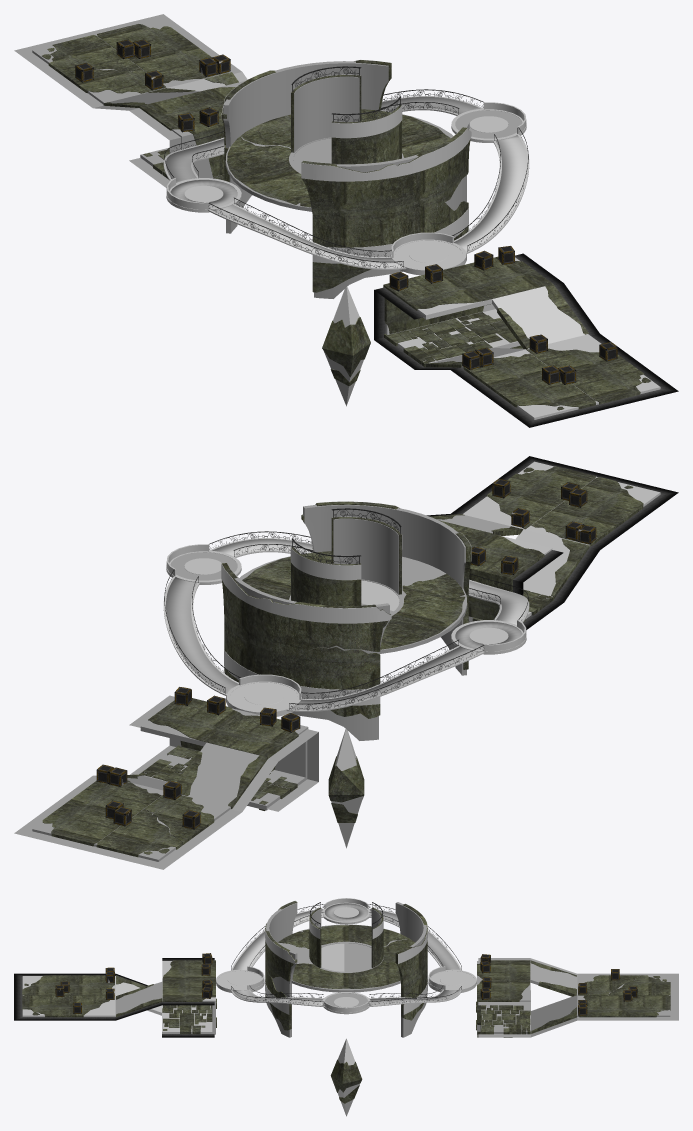
The model's file is SkyGarden.fbx.
The picture shows the model from 3 angles, top to bottom: view 1: azimuth 30°, elevation 25°; view 2: azimuth 150°, elevation 25°; view 3: azimuth 270°, elevation 25°; orthographic projection. The views are drawn at different scales.
Visible parts, largest first — view 1: Rock (×3), WallBody (×3), WallInside (×3), Inside (×3), Ground (×3), BorderGlow (×2), Edge (×5), WallEdge (×2), BaseGround, Box2 (×2), Fence (×2), FloatingRock (+4 smaller); view 2: Rock (×3), WallBody (×3), Inside (×3), WallInside (×3), BorderGlow (×2), Ground (×3), Edge (×5), WallEdge (×2), Box2 (×2), Fence (×2), Glass (×2), BaseGround (+4 smaller); view 3: Rock (×3), Inside (×3), WallBody (×4), BorderGlow (×2), Ground (×4), Edge (×6), WallInside (×2), BaseGround (×2), Box2 (×2), WallEdge (×2), Fence (×2), Box1 (×2) (+5 smaller).
Boxes of the visible parts, x1=… form: Rock (×3): x1=42, y1=24, x2=650, y2=410; WallBody (×3): x1=221, y1=60, x2=470, y2=292; WallInside (×3): x1=223, y1=61, x2=469, y2=298; Inside (×3): x1=32, y1=19, x2=660, y2=419; Ground (×3): x1=166, y1=96, x2=526, y2=268; BorderGlow (×2): x1=14, y1=14, x2=678, y2=427; Edge (×5): x1=163, y1=96, x2=529, y2=275; WallEdge (×2): x1=301, y1=105, x2=471, y2=263; BaseGround: x1=384, y1=312, x2=522, y2=367; Box2 (×2): x1=75, y1=39, x2=617, y2=384; Fence (×2): x1=164, y1=89, x2=528, y2=268; FloatingRock: x1=322, y1=317, x2=370, y2=386; Rock (×3): x1=42, y1=466, x2=643, y2=857; WallBody (×3): x1=222, y1=501, x2=471, y2=718; Inside (×3): x1=32, y1=461, x2=660, y2=861; WallInside (×3): x1=226, y1=504, x2=466, y2=740; BorderGlow (×2): x1=14, y1=456, x2=678, y2=869; Ground (×3): x1=166, y1=538, x2=526, y2=710; Edge (×5): x1=163, y1=538, x2=529, y2=716; WallEdge (×2): x1=221, y1=547, x2=391, y2=705; Box2 (×2): x1=96, y1=478, x2=596, y2=829; Fence (×2): x1=164, y1=531, x2=528, y2=710; Glass (×2): x1=170, y1=552, x2=522, y2=649; BaseGround: x1=139, y1=745, x2=297, y2=810; Rock (×3): x1=22, y1=925, x2=670, y2=1033; Inside (×3): x1=22, y1=924, x2=670, y2=1034; WallBody (×4): x1=265, y1=901, x2=427, y2=1030; BorderGlow (×2): x1=14, y1=958, x2=678, y2=1037; Ground (×4): x1=218, y1=909, x2=474, y2=1005; Edge (×6): x1=216, y1=898, x2=476, y2=1014; WallInside (×2): x1=266, y1=902, x2=426, y2=1037; BaseGround (×2): x1=162, y1=998, x2=530, y2=1037; Box2 (×2): x1=55, y1=967, x2=637, y2=1015; WallEdge (×2): x1=265, y1=903, x2=427, y2=1014; Fence (×2): x1=231, y1=904, x2=461, y2=1005; Box1 (×2): x1=201, y1=953, x2=491, y2=999.
Size of the model in its own units: 63.26 by 54.56 by 161.
